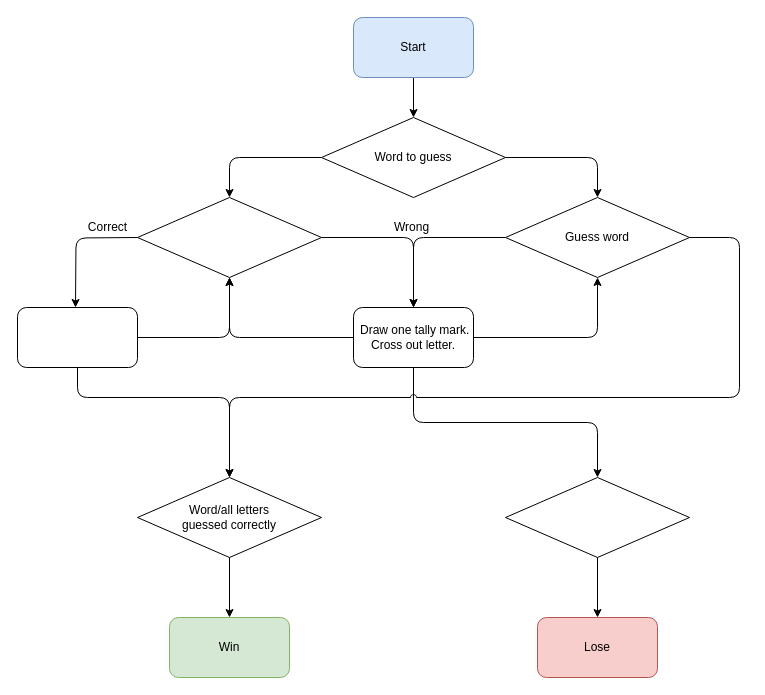
Image size: 765x695. Some labels were removed from this diagram. Each missing label, with the box of its shape:
All tally marks drawn: (504, 476, 690, 558)
Guess letter: (136, 196, 322, 278)
Write the letter in all its correct positions. Cross out letter: (16, 306, 138, 368)
